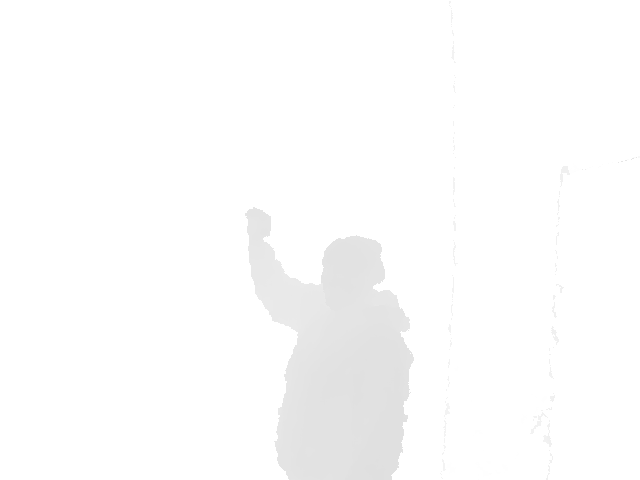hand: (245, 206, 273, 242)
head: (320, 234, 387, 311)
person: (245, 206, 416, 480)
